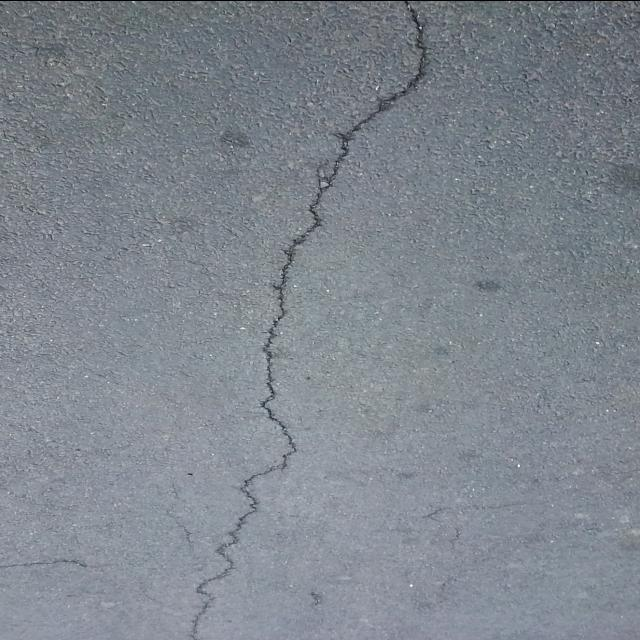Crack: (186, 0, 427, 640), (167, 502, 194, 546), (0, 558, 88, 567), (423, 507, 446, 521), (479, 503, 523, 509), (309, 591, 319, 607), (172, 480, 179, 498), (454, 526, 464, 538)
